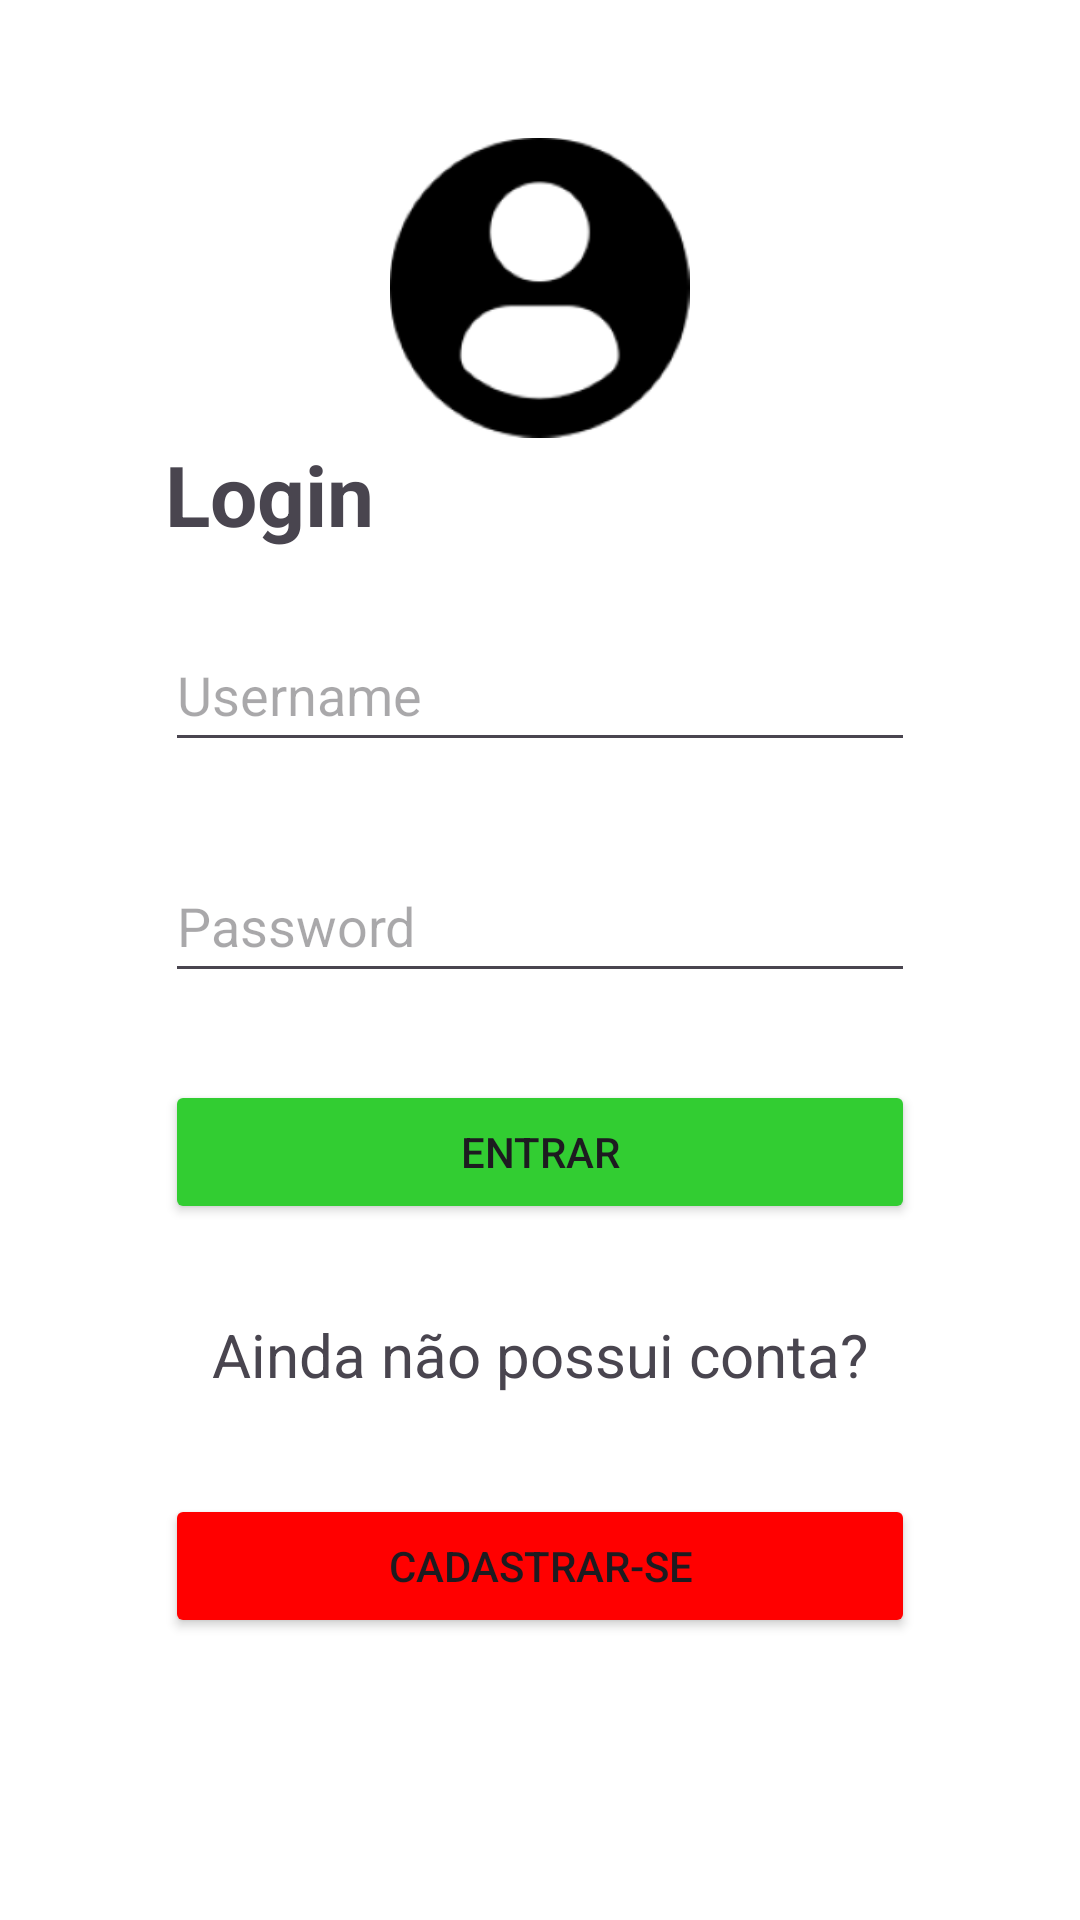

Locate icon controls on the screen. Image size 1080×1920, boxes as (x1, y1, x2, y2).
Imagem de perfil: (390, 138, 690, 438)
